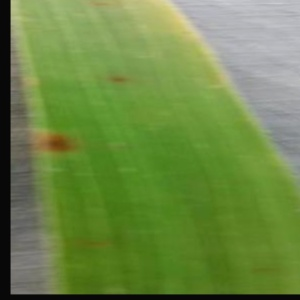Bacterial_Leaf_Blight: (34, 126, 84, 160), (106, 71, 131, 85), (91, 0, 114, 8)
